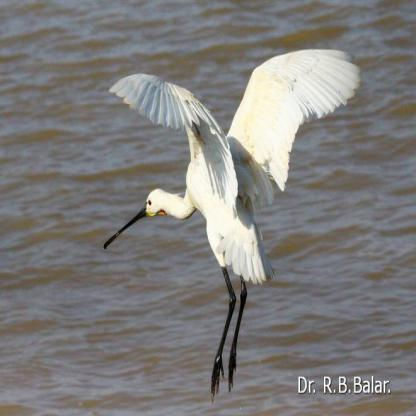Burung: (100, 49, 362, 394)
